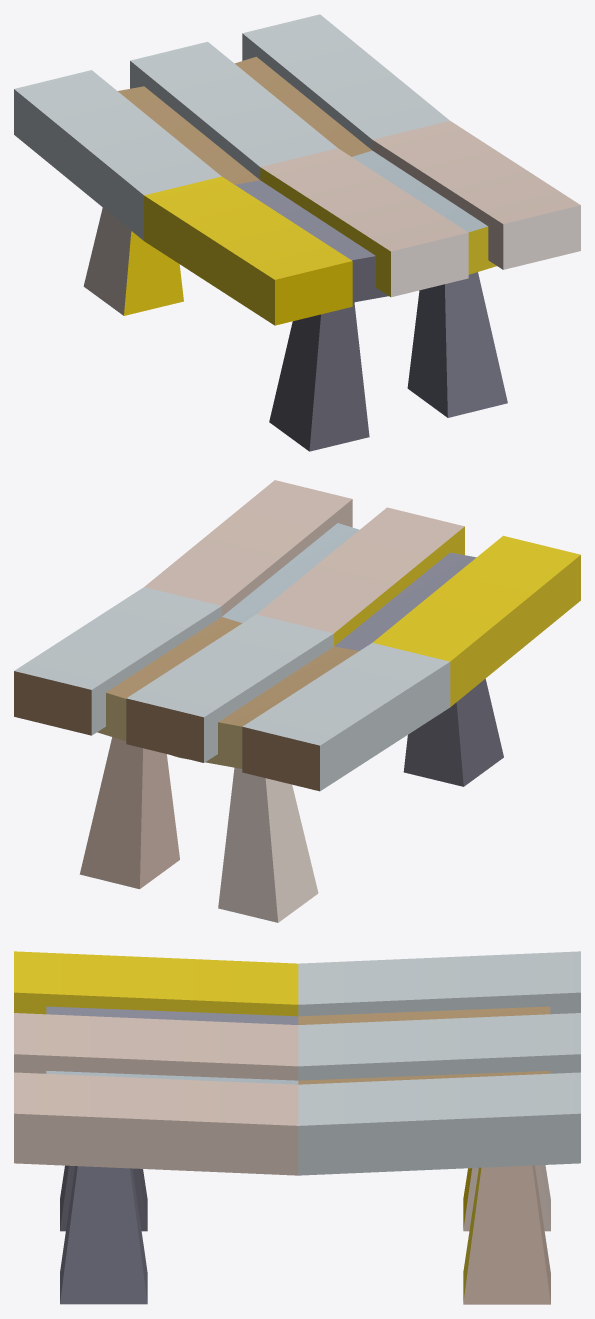
File: table.glb
The picture shows the model from 3 angles, top to bottom: view 1: azimuth 30°, elevation 25°; view 2: azimuth 150°, elevation 25°; view 3: azimuth 270°, elevation 25°; orthographic projection. The views are drawn at different scales.
Visible parts, largest first — view 1: Table.001; view 2: Table.001; view 3: Table.001.
Boxes of the visible parts, x1,y1,x2,y2 form: Table.001: (14, 14, 580, 451); Table.001: (14, 480, 580, 922); Table.001: (14, 951, 580, 1304).
Bounding box in the file's own units: 0.9826 × 0.6169 × 1.45.
